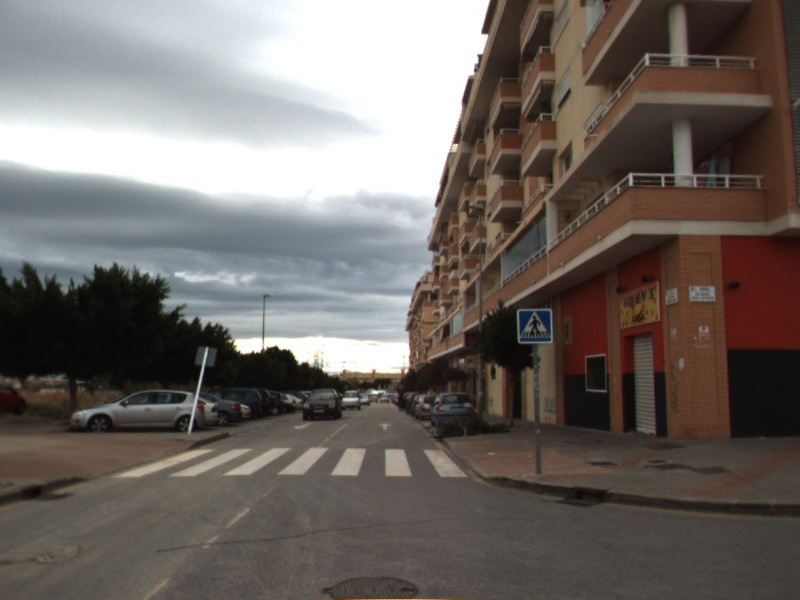STRAIGHT: (376, 420, 394, 432)
